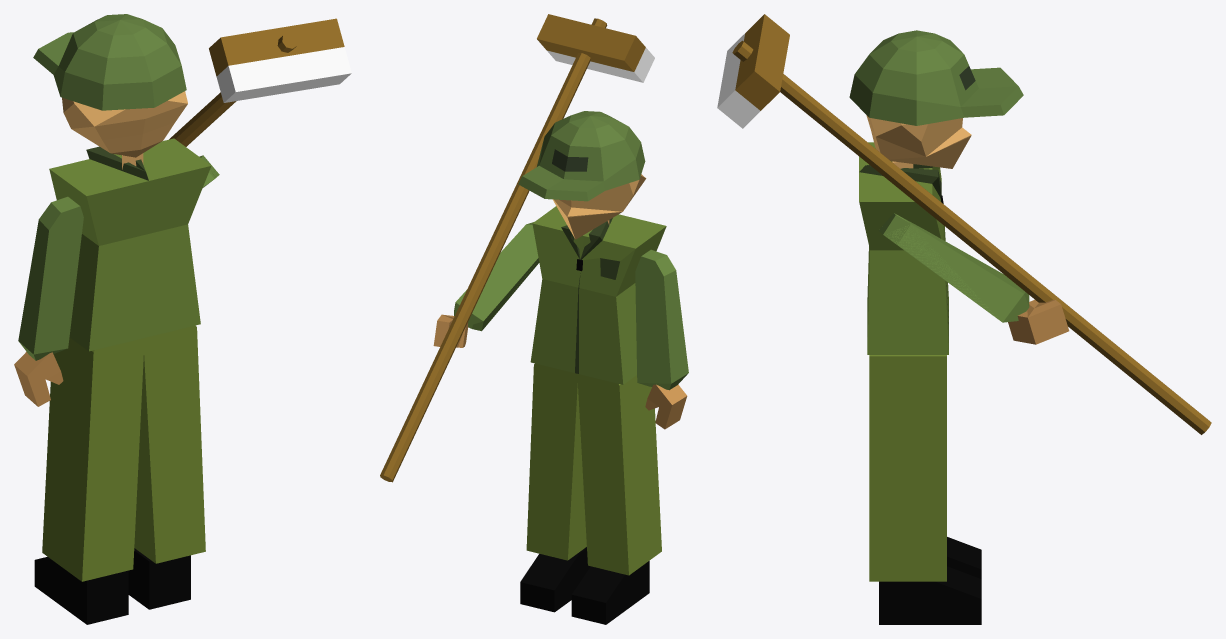
Rendered from Janitor.glb.
The picture shows the model from 3 angles, left to right: view 1: azimuth 30°, elevation 25°; view 2: azimuth 150°, elevation 25°; view 3: azimuth 270°, elevation 25°; orthographic projection. The views are drawn at different scales.
Visible parts, largest first — view 1: upper body, Chest, Sphere, Cylinder, Arms, shose, Plane, Hand; view 2: upper body, Chest, Cylinder, Arms, Sphere, shose, Plane, Hand; view 3: upper body, Cylinder, Chest, Sphere, shose, Arms, Plane, Hand.
Boxes of the visible parts, <box> form: upper body: <box>42,325,205,581</box>; Chest: <box>49,138,211,351</box>; Sphere: <box>33,14,186,110</box>; Cylinder: <box>169,18,351,146</box>; Arms: <box>18,155,219,360</box>; shose: <box>34,548,190,624</box>; Plane: <box>62,91,187,157</box>; Hand: <box>14,352,63,406</box>; upper body: <box>526,363,661,575</box>; Chest: <box>530,206,666,384</box>; Cylinder: <box>380,14,654,482</box>; Arms: <box>454,222,688,390</box>; Sphere: <box>518,111,645,201</box>; shose: <box>520,547,649,624</box>; Plane: <box>552,174,646,239</box>; Hand: <box>433,314,687,429</box>; upper body: <box>869,355,946,581</box>; Cylinder: <box>717,14,1211,434</box>; Chest: <box>859,142,948,354</box>; Sphere: <box>849,30,1023,125</box>; shose: <box>879,537,981,624</box>; Arms: <box>879,213,1029,322</box>; Plane: <box>866,115,971,168</box>; Hand: <box>1008,300,1069,344</box>.
Size of the model in its own units: 4.3 by 10.5 by 7.87.
